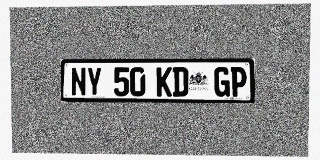0: (130, 67, 145, 96)
5: (114, 67, 129, 96)
D: (173, 67, 188, 97)
G: (214, 67, 230, 97)
K: (156, 67, 172, 97)
N: (71, 67, 86, 96)
P: (230, 67, 247, 97)
Y: (87, 67, 102, 96)
